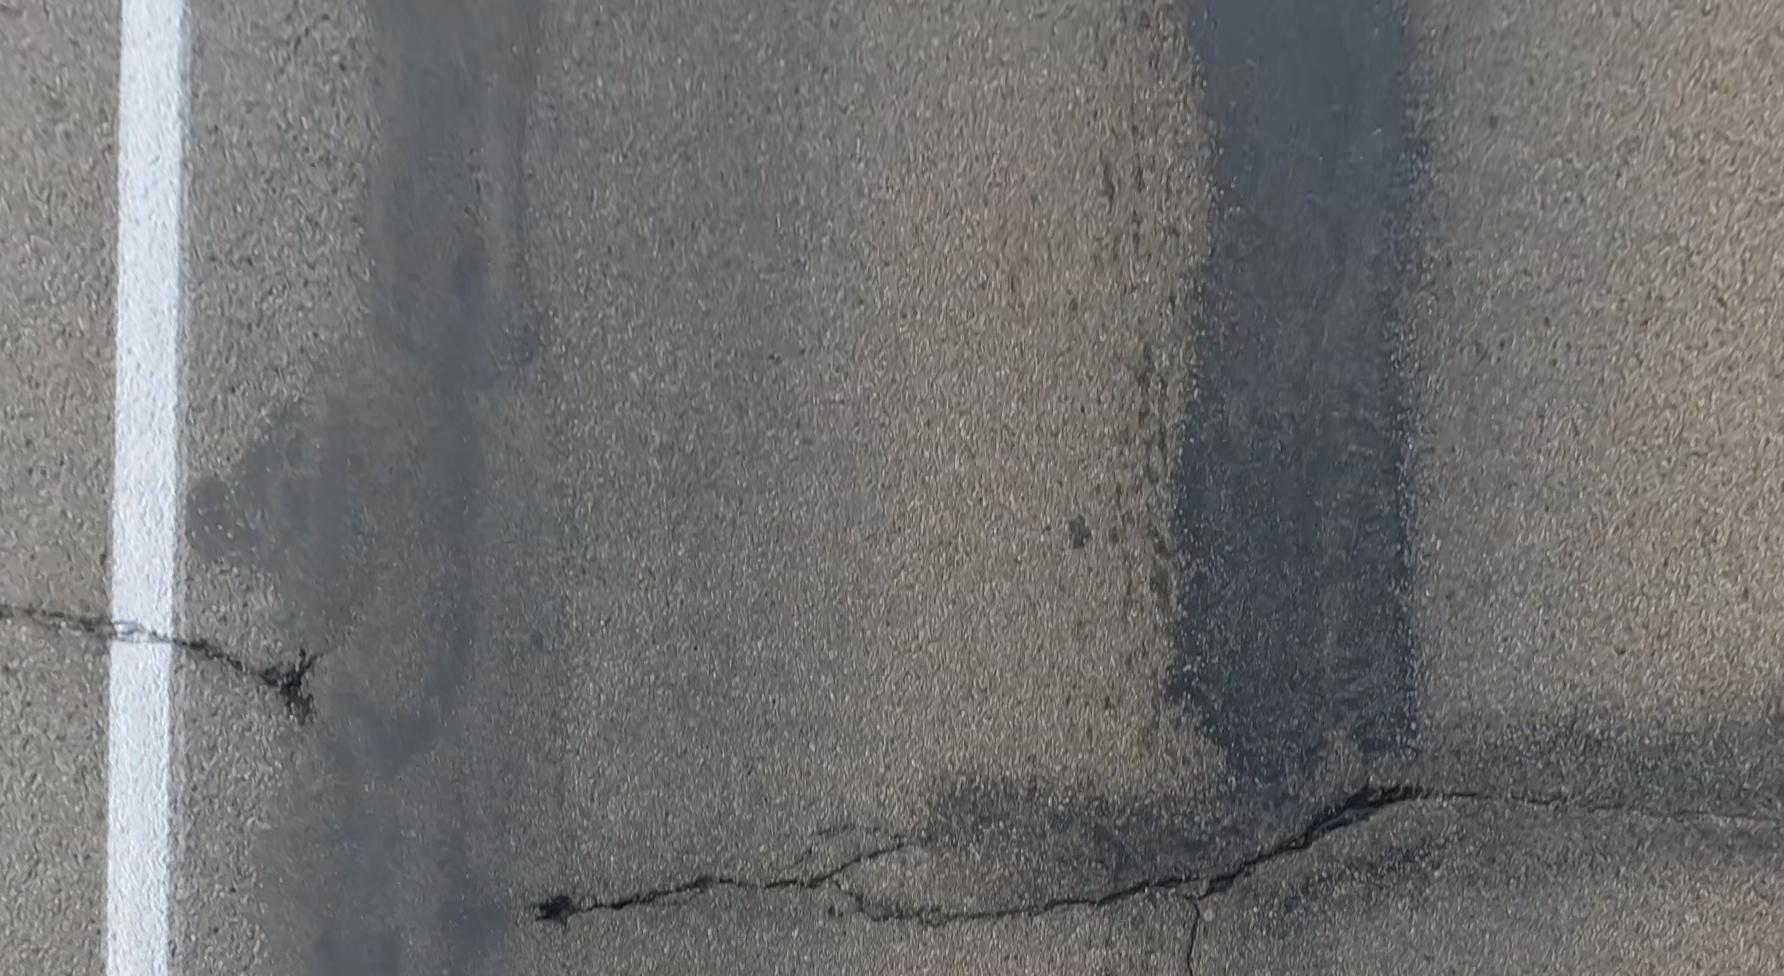pothole: (1295, 788, 1416, 849), (253, 650, 316, 724), (537, 894, 578, 924)
pothole_patch_good: (169, 0, 537, 974), (1146, 0, 1442, 793)
